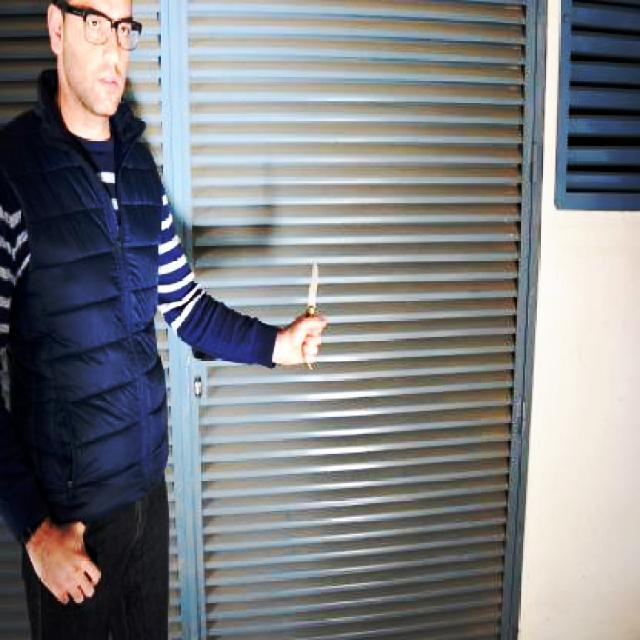Knife: (304, 252, 332, 328)
